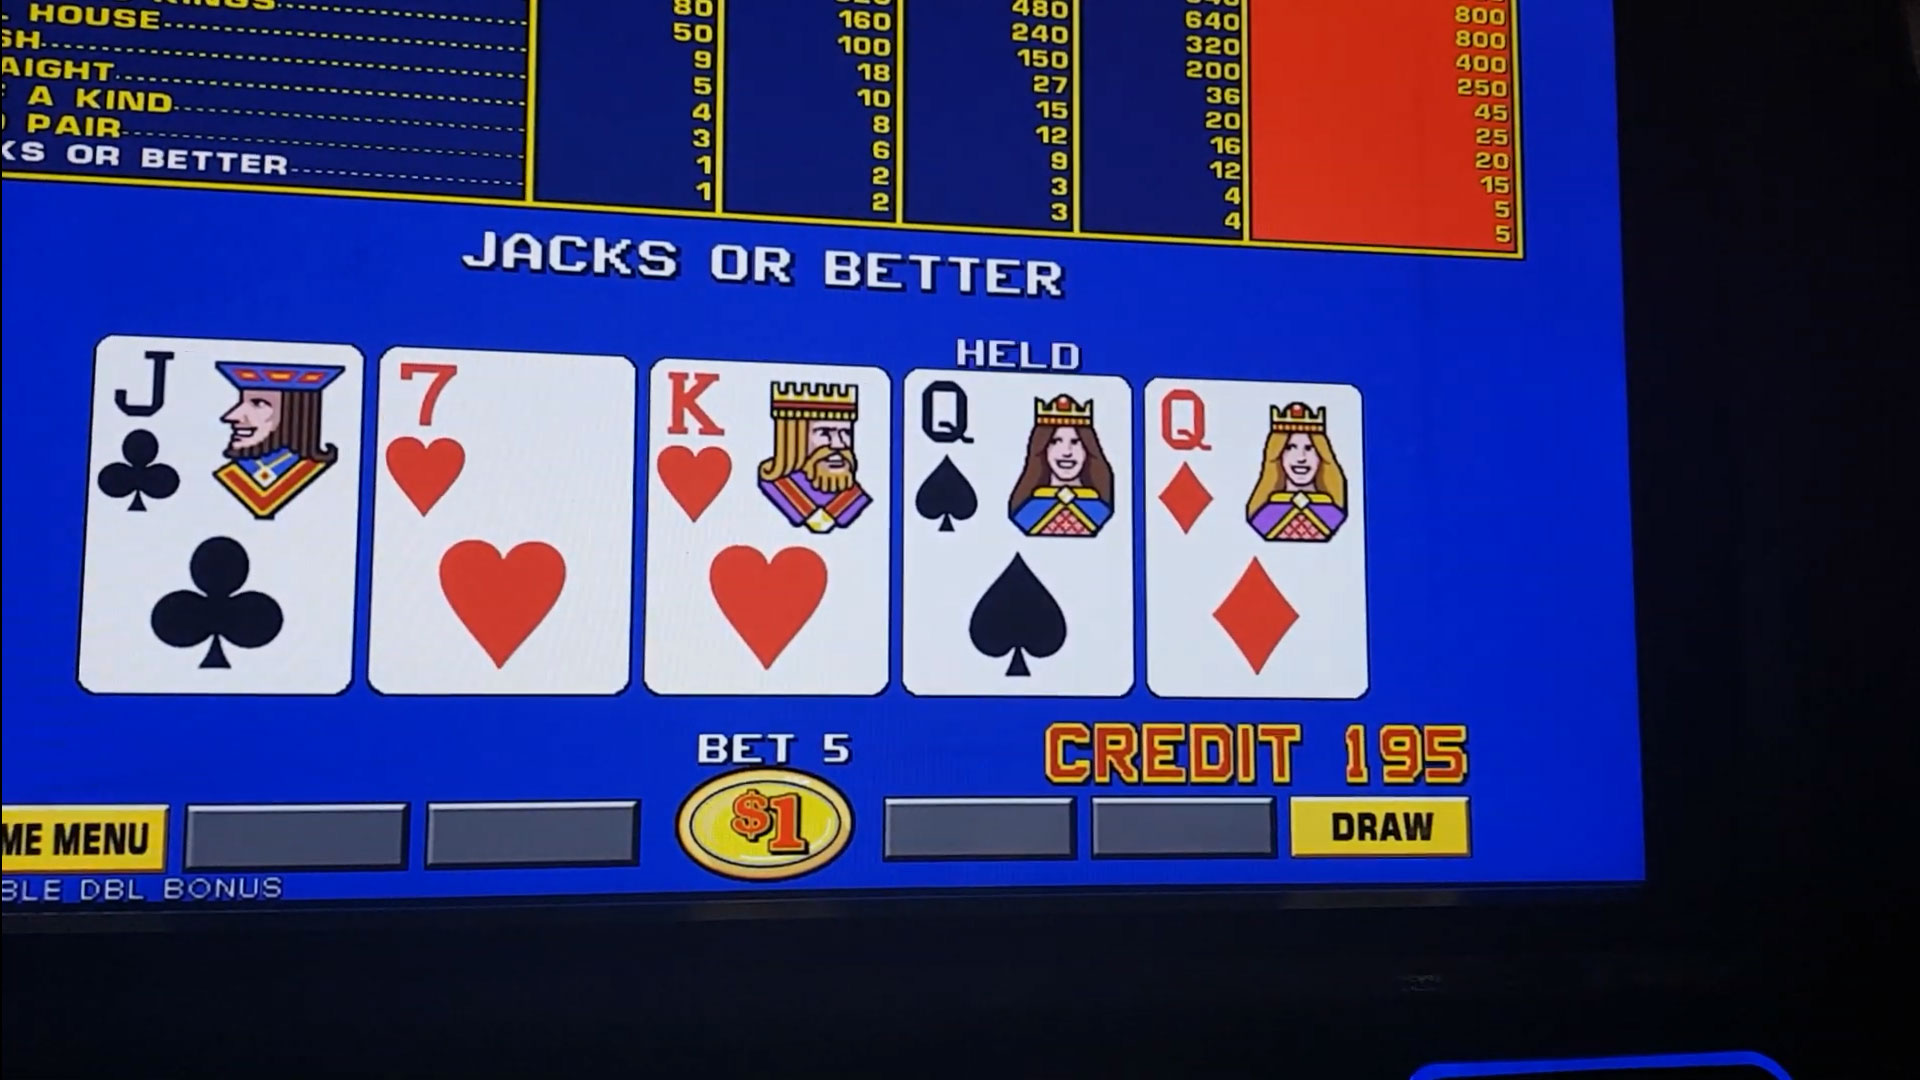CJ: (105, 355, 353, 525)
DQ: (1146, 386, 1356, 541)
H7: (378, 367, 630, 531)
HK: (655, 373, 889, 545)
SQ: (910, 380, 1127, 545)
